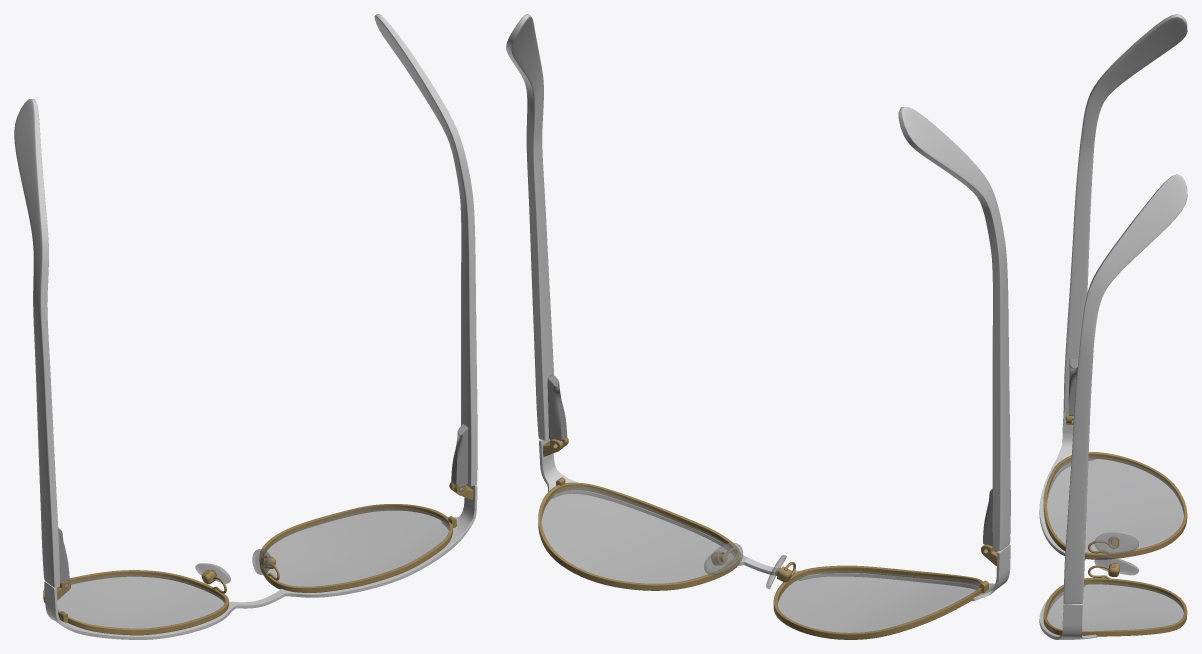
The picture shows the model from 3 angles, left to right: view 1: azimuth 30°, elevation 25°; view 2: azimuth 150°, elevation 25°; view 3: azimuth 270°, elevation 25°; orthographic projection. The views are drawn at different scales.
Parts seen in each view (by area): view 1: Metal 01, Gem 02, Finger Sizes; view 2: Metal 01, Gem 02, Finger Sizes; view 3: Metal 01, Gem 02, Finger Sizes.
Part boxes in pixels (x1=…): Metal 01: x1=14, y1=14, x2=477, y2=639; Gem 02: x1=57, y1=506, x2=449, y2=628; Finger Sizes: x1=56, y1=424, x2=473, y2=622; Metal 01: x1=506, y1=14, x2=1010, y2=639; Gem 02: x1=541, y1=485, x2=979, y2=632; Finger Sizes: x1=543, y1=374, x2=998, y2=592; Metal 01: x1=1039, y1=14, x2=1187, y2=639; Gem 02: x1=1046, y1=456, x2=1183, y2=631; Finger Sizes: x1=1065, y1=358, x2=1119, y2=579.
Bounding box in the file's own units: 12.19 × 13.65 × 3.8.
